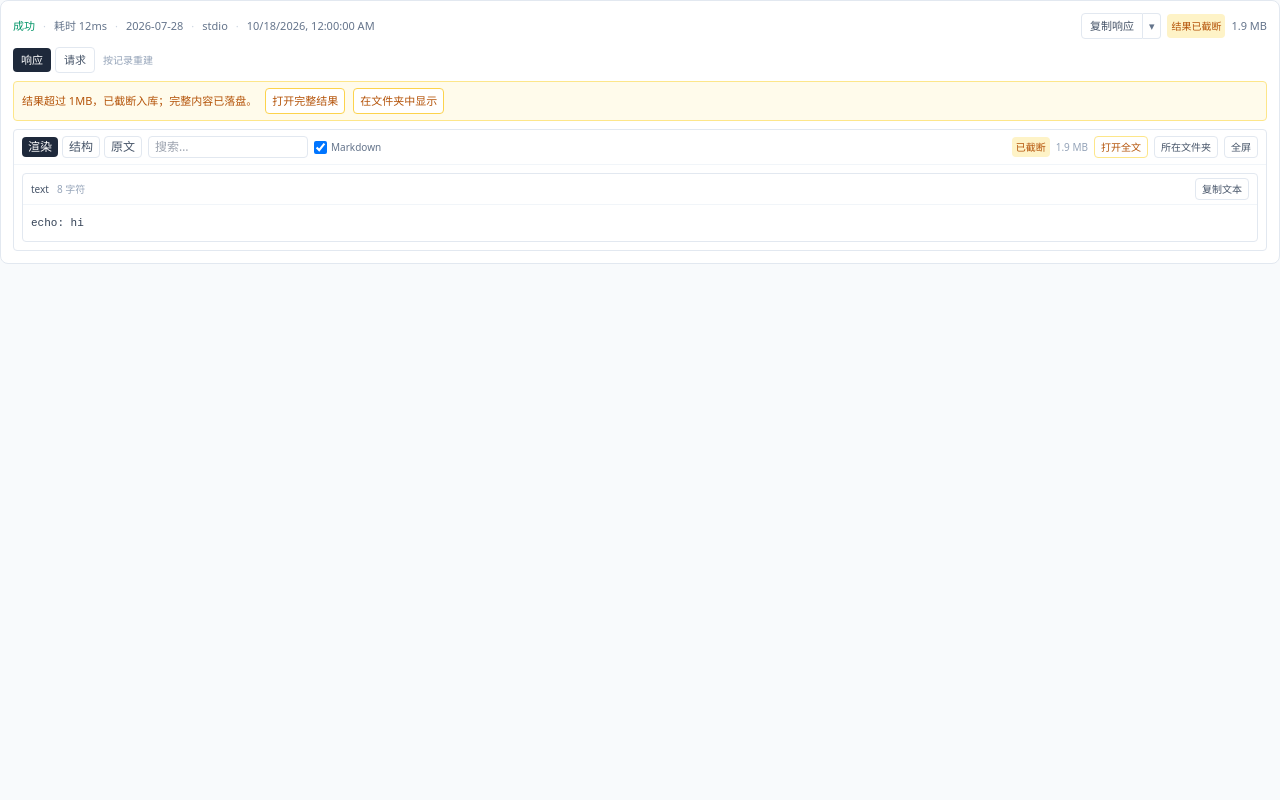
Test: ResultViewer › 截断结果提供完整内容入口
This screenshot has width=1280, height=800.
Expected: the text "结果已截断" is shown, [1168,14,1226,38]
Step 1. Click the button "打开完整结果" → coordinates (305, 101), box [265,88,345,114]
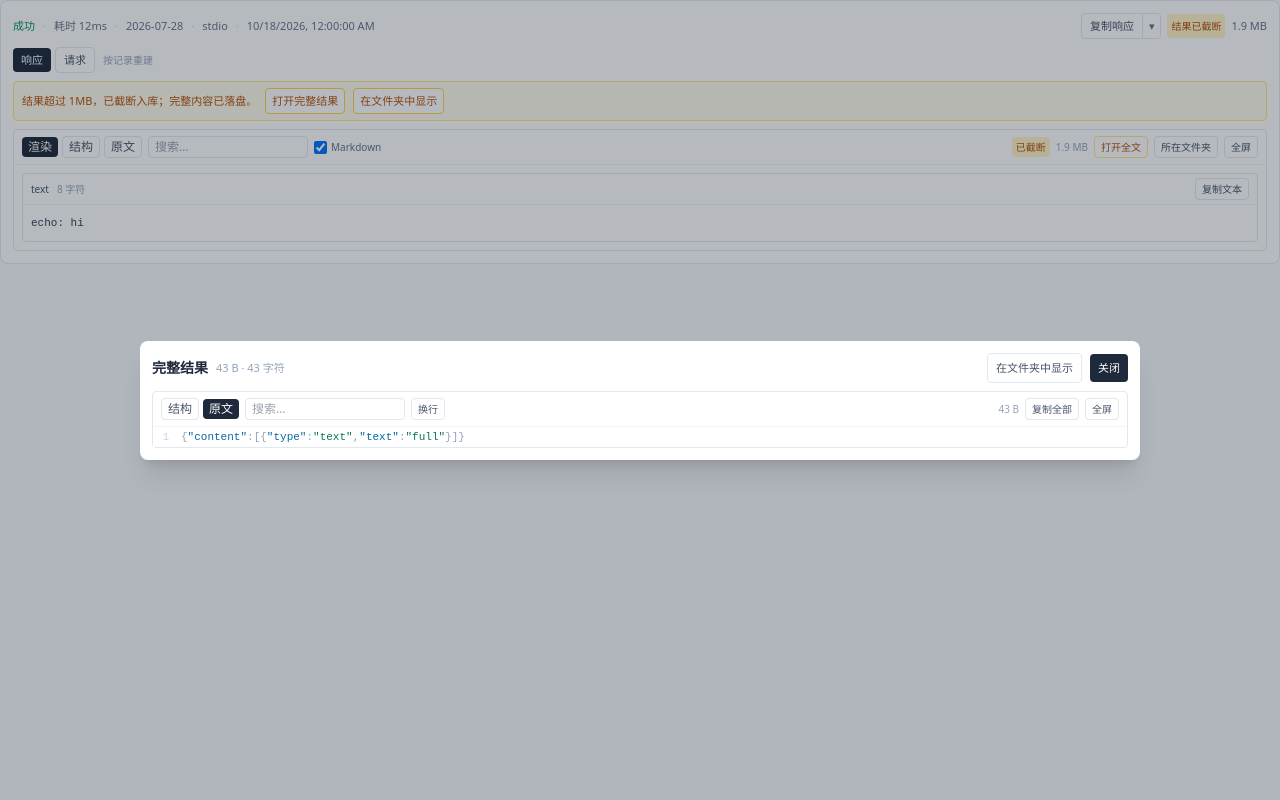
Now the heading "完整结果" is shown, box [152,358,208,378]
